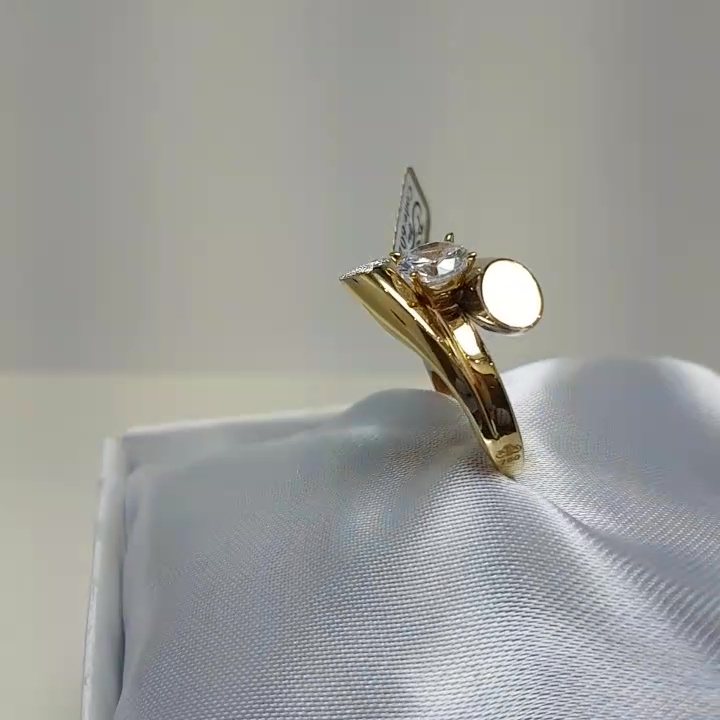Ring 7: (311, 228, 572, 485)
